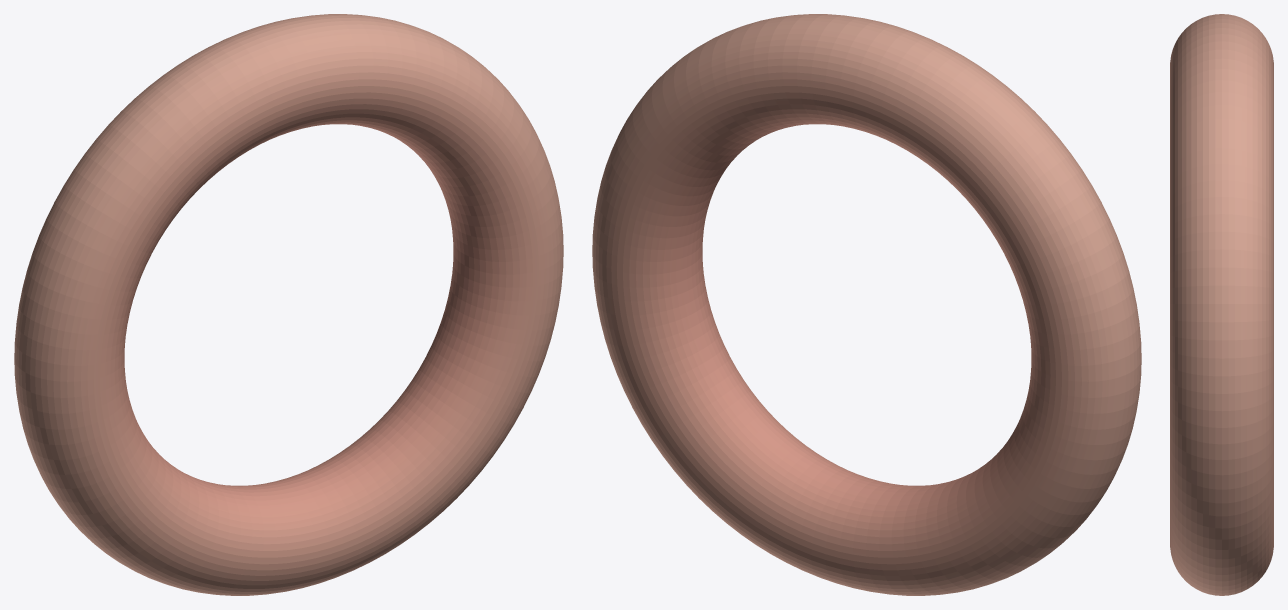
3 renders of one model, left to right at view 1: azimuth 30°, elevation 25°; view 2: azimuth 150°, elevation 25°; view 3: azimuth 270°, elevation 25°, orthographic. The views are drawn at different scales.
Visible parts, largest first — view 1: world; view 2: world; view 3: world.
Part boxes in pixels (x1,y1,x2,y2): world: [14, 14, 563, 595]; world: [592, 14, 1141, 595]; world: [1170, 14, 1273, 595].
Size of the model in its own units: 18.67 by 18.67 by 3.33.
